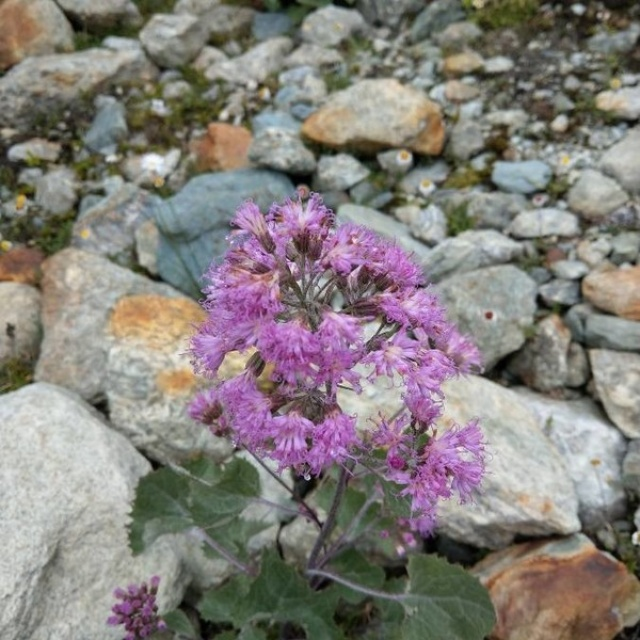obstacle: (127, 205, 480, 609)
